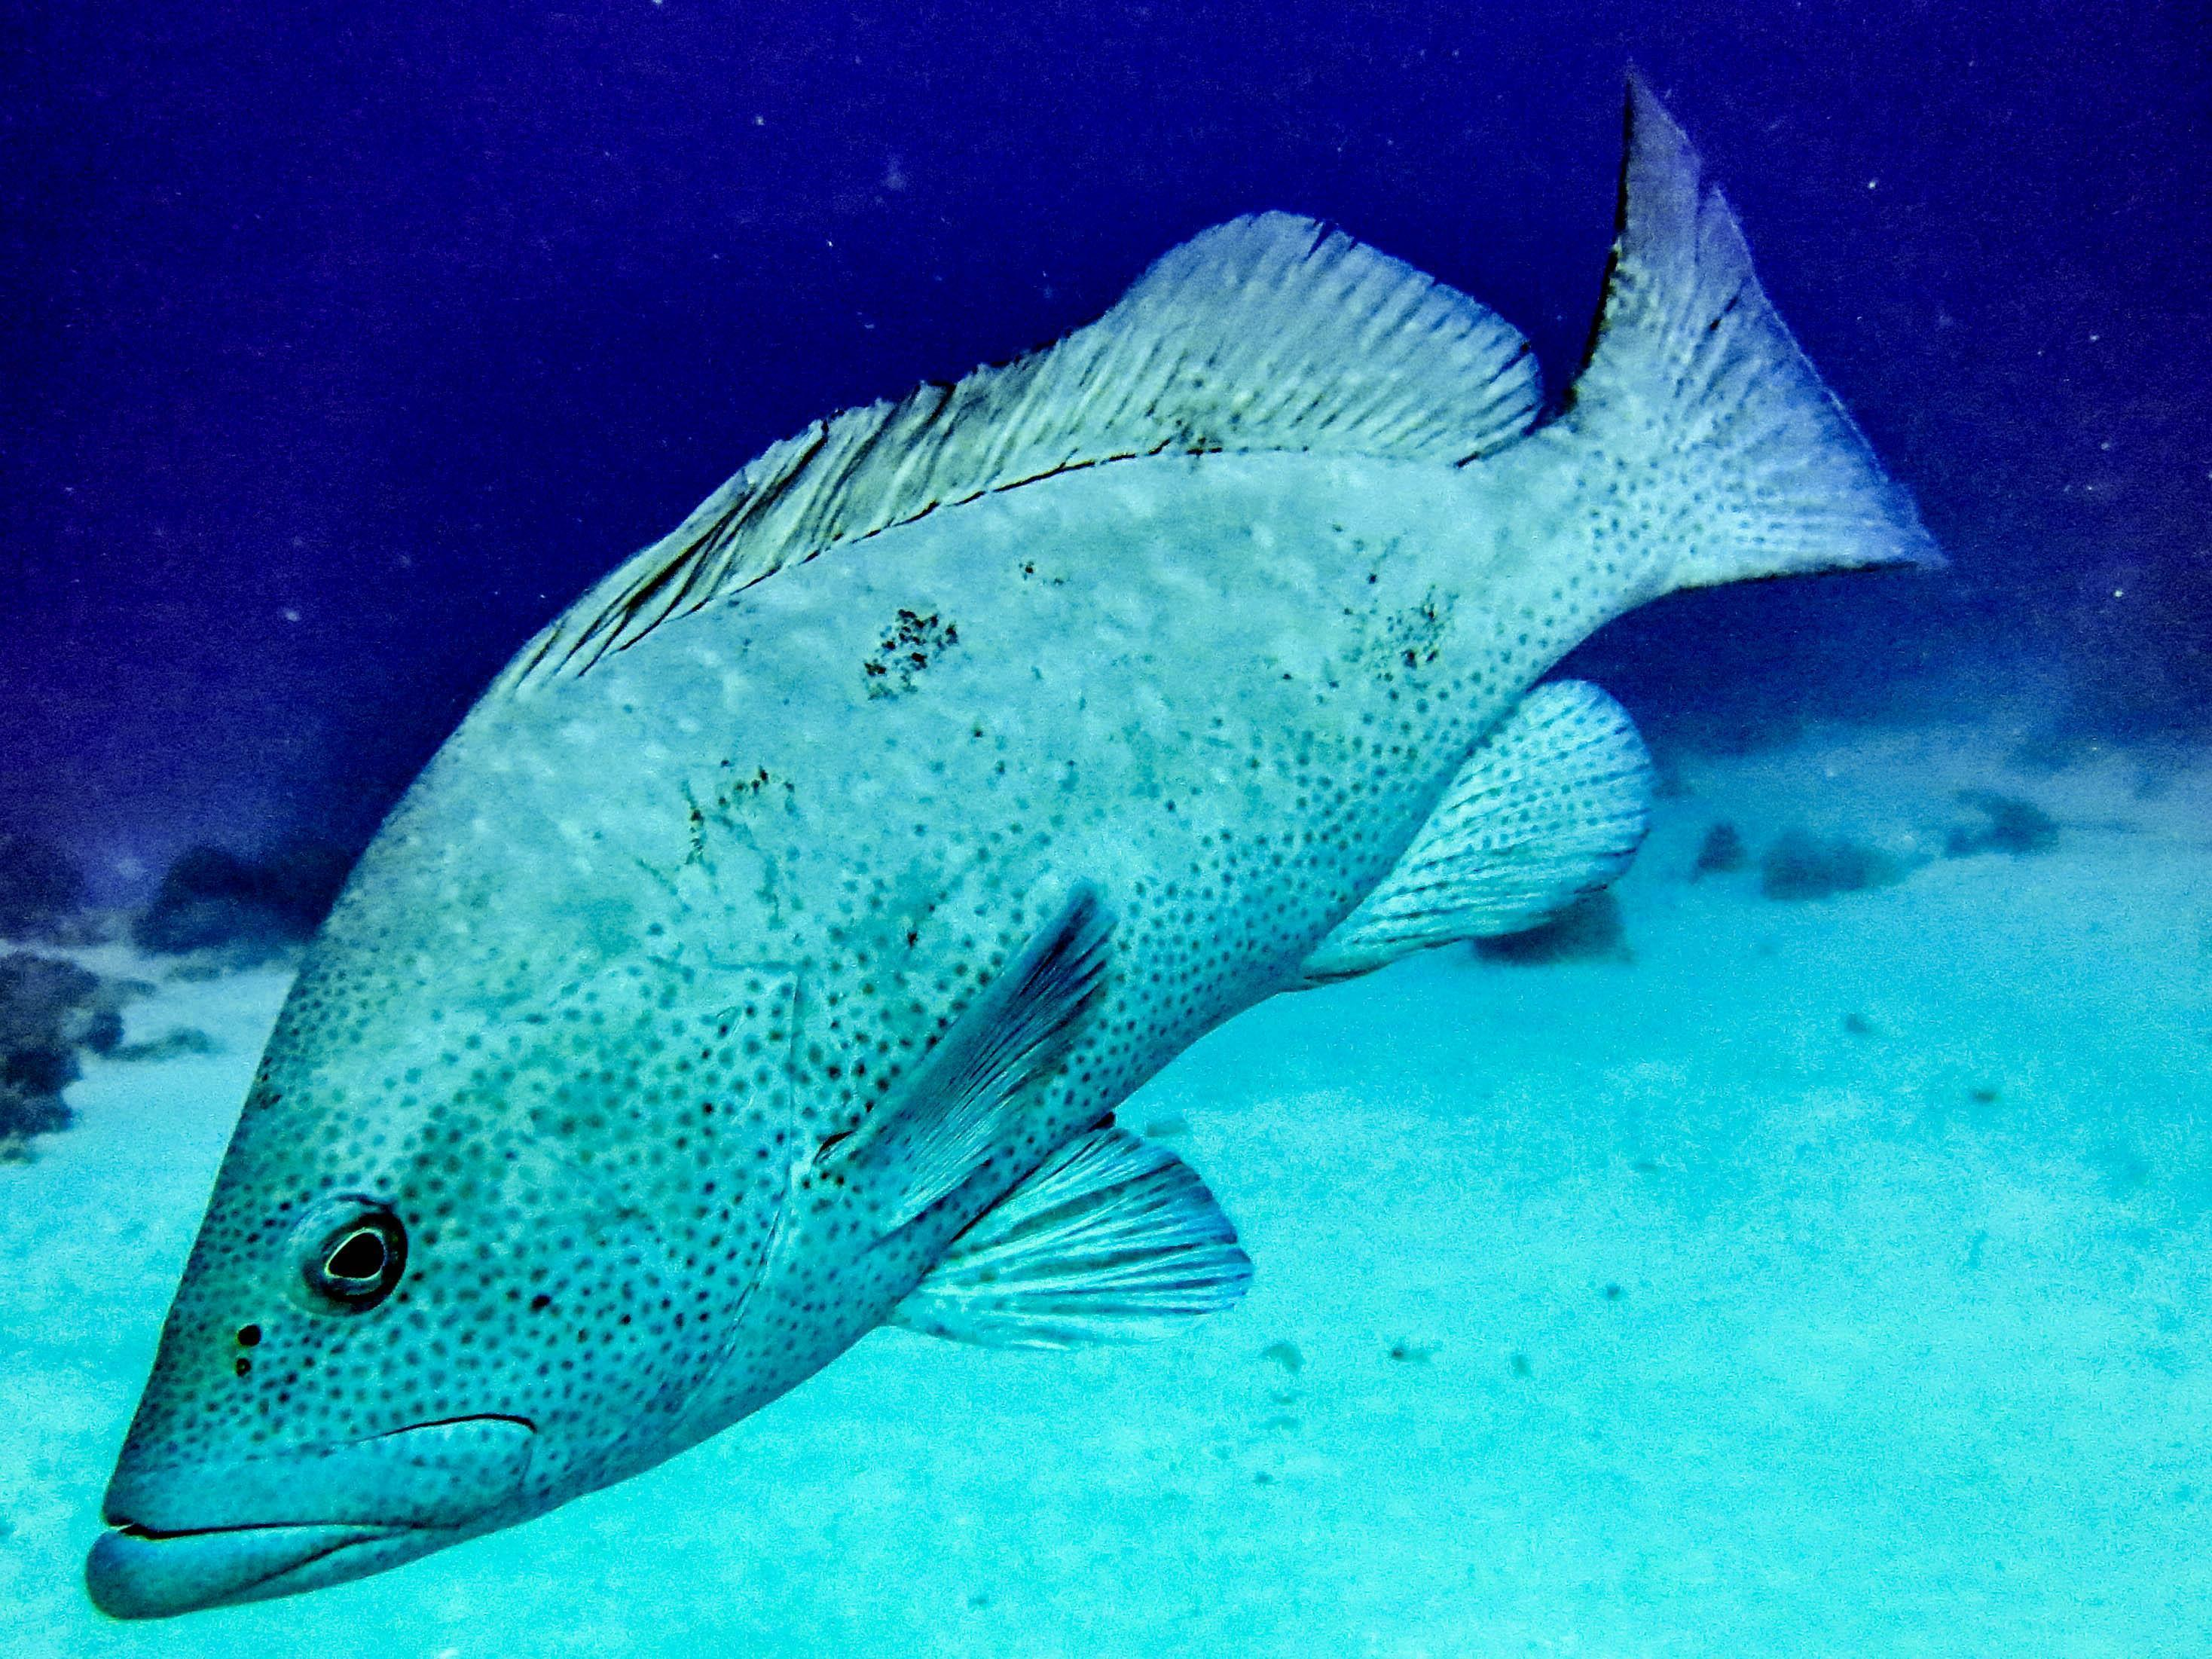Fish: (66, 38, 1905, 1659)
